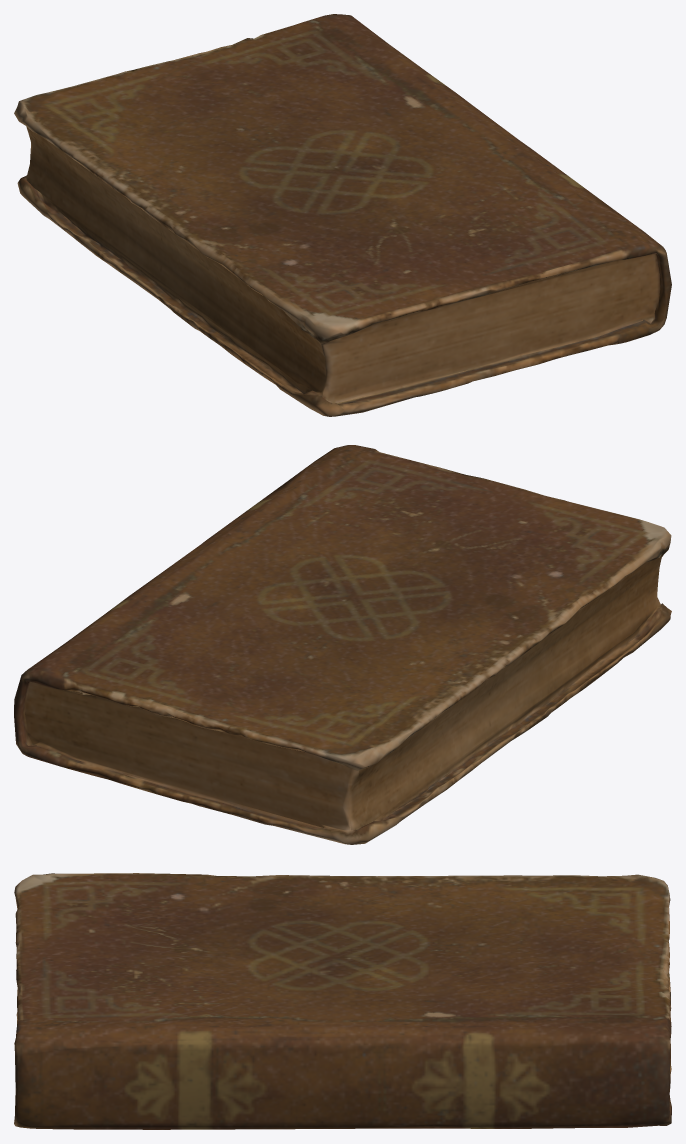
Rendered from SM_Prop_Book_B.fbx.
The picture shows the model from 3 angles, top to bottom: view 1: azimuth 30°, elevation 25°; view 2: azimuth 150°, elevation 25°; view 3: azimuth 270°, elevation 25°; orthographic projection. The views are drawn at different scales.
Visible parts, largest first — view 1: SM_Prop_Book_B_LOD0; view 2: SM_Prop_Book_B_LOD0; view 3: SM_Prop_Book_B_LOD0.
Boxes of the visible parts, x1,y1,x2,y2 form: SM_Prop_Book_B_LOD0: (14, 14, 671, 416); SM_Prop_Book_B_LOD0: (14, 445, 671, 844); SM_Prop_Book_B_LOD0: (14, 873, 671, 1129).
Bounding box in the file's own units: 19.6 × 30.25 × 5.52.
1 material, 1 textured.
